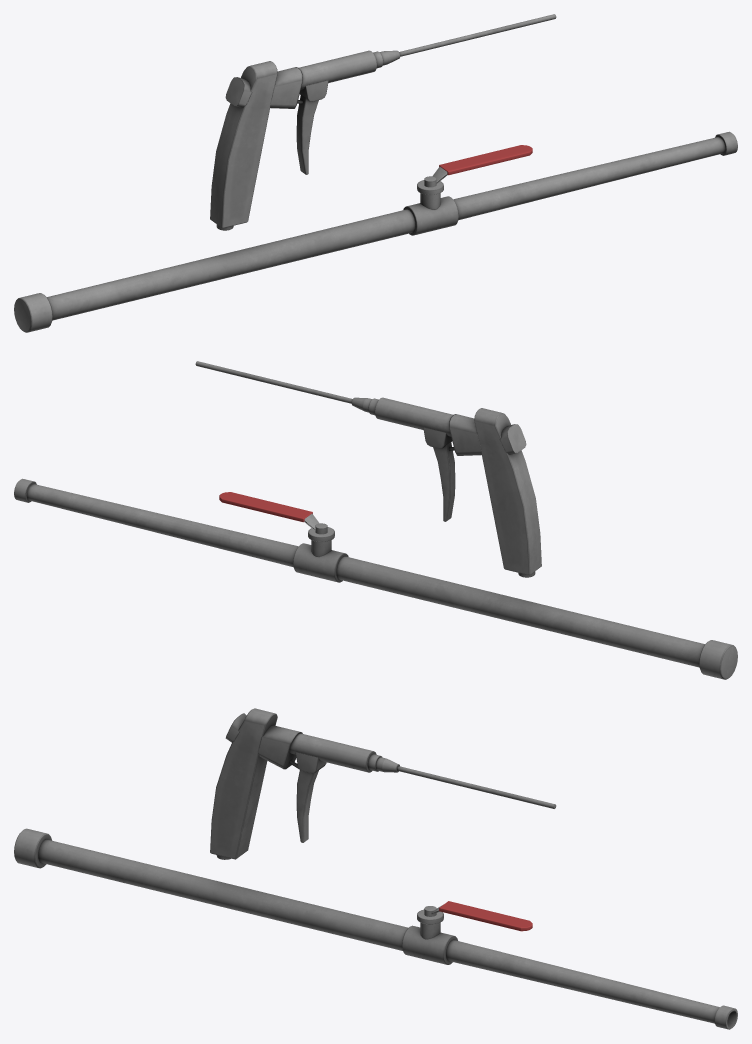
Rendered from pistolas.fbx.
3 views of the same model, one above another, from view 1: azimuth 30°, elevation 25°; view 2: azimuth 150°, elevation 25°; view 3: azimuth 330°, elevation 25° (orthographic).
Parts seen in each view (by area): view 1: pistolas_pCylinder7, pistolas_polySurface3, pistolas_pCylinder11, pistolas_pCylinder1, pCube1, pistolas_pCylinder9, pistolas_pCylinder8, pistolas_polySurface2, pistolas_pCube3, pistolas_pCylinder3, pistolas_polySurface4; view 2: pistolas_pCylinder7, pistolas_polySurface3, pistolas_pCylinder11, pistolas_pCylinder1, pCube1, pistolas_pCylinder9, pistolas_pCylinder8, pistolas_polySurface2, pistolas_pCube3, pistolas_pCylinder3, pistolas_polySurface4; view 3: pistolas_pCylinder7, pistolas_pCylinder11, pistolas_polySurface3, pistolas_pCylinder1, pCube1, pistolas_pCylinder9, pistolas_polySurface2, pistolas_pCube3, pistolas_pCylinder8, pistolas_pCylinder3.
Boxes of the visible parts, x1,y1,x2,y2 form: pistolas_pCylinder7: [47, 209, 415, 320]; pistolas_polySurface3: [210, 61, 277, 228]; pistolas_pCylinder11: [453, 131, 737, 220]; pistolas_pCylinder1: [298, 50, 376, 89]; pCube1: [424, 145, 532, 187]; pistolas_pCylinder9: [403, 196, 458, 235]; pistolas_pCylinder8: [14, 293, 52, 332]; pistolas_polySurface2: [270, 67, 302, 108]; pistolas_pCube3: [296, 94, 318, 174]; pistolas_pCylinder3: [399, 14, 556, 56]; pistolas_polySurface4: [225, 77, 251, 107]; pistolas_pCylinder7: [336, 556, 704, 667]; pistolas_polySurface3: [474, 408, 541, 575]; pistolas_pCylinder11: [14, 478, 298, 567]; pistolas_pCylinder1: [375, 397, 453, 436]; pCube1: [219, 492, 327, 534]; pistolas_pCylinder9: [293, 543, 348, 582]; pistolas_pCylinder8: [699, 640, 737, 679]; pistolas_polySurface2: [449, 414, 481, 455]; pistolas_pCube3: [433, 441, 455, 521]; pistolas_pCylinder3: [195, 361, 352, 403]; pistolas_polySurface4: [499, 424, 526, 454]; pistolas_pCylinder7: [38, 839, 408, 950]; pistolas_pCylinder11: [446, 940, 737, 1029]; pistolas_polySurface3: [210, 708, 277, 859]; pistolas_pCylinder1: [289, 733, 376, 772]; pCube1: [424, 901, 532, 931]; pistolas_pCylinder9: [402, 925, 457, 964]; pistolas_polySurface2: [258, 725, 302, 769]; pistolas_pCube3: [296, 770, 318, 842]; pistolas_pCylinder8: [14, 828, 51, 868]; pistolas_pCylinder3: [397, 766, 556, 808].
Bounding box in the file's own units: 32.44 × 9.12 × 1.43.
